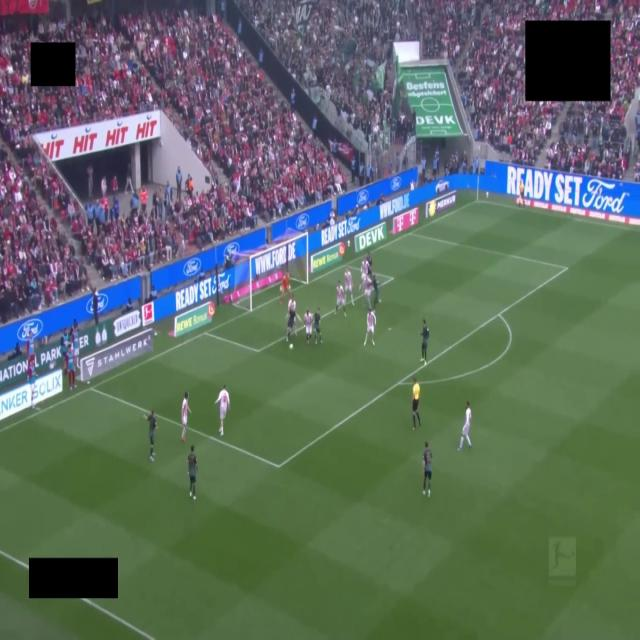ball: (289, 344, 293, 349)
player: (144, 409, 157, 462), (216, 385, 229, 437), (458, 401, 471, 451), (286, 296, 299, 342), (188, 445, 197, 500), (423, 442, 432, 496), (181, 392, 190, 442), (364, 310, 375, 345), (335, 280, 345, 316), (421, 320, 429, 364), (345, 267, 354, 304), (280, 272, 290, 304), (371, 273, 379, 308), (314, 308, 322, 343), (304, 310, 312, 345), (288, 294, 298, 320), (360, 258, 368, 290), (364, 276, 371, 309), (365, 253, 372, 277), (518, 179, 524, 207)
referee: (412, 377, 420, 430)
